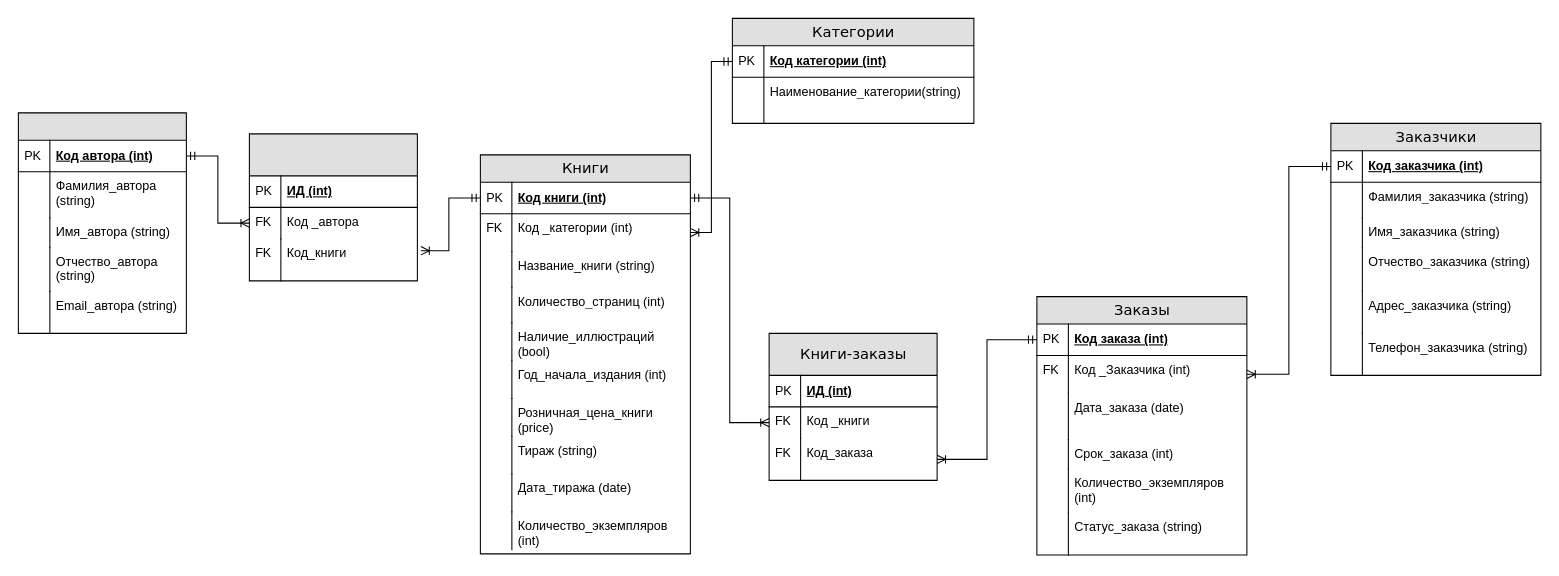
Some shapes in this 1559 by 576 pixel diagram are drawn without their labels. The box of each missing label's shape, as (x1, y1, x2, y2) in pixels:
Авторы: (17, 112, 186, 333)
Авторы-книги: (248, 133, 417, 281)
